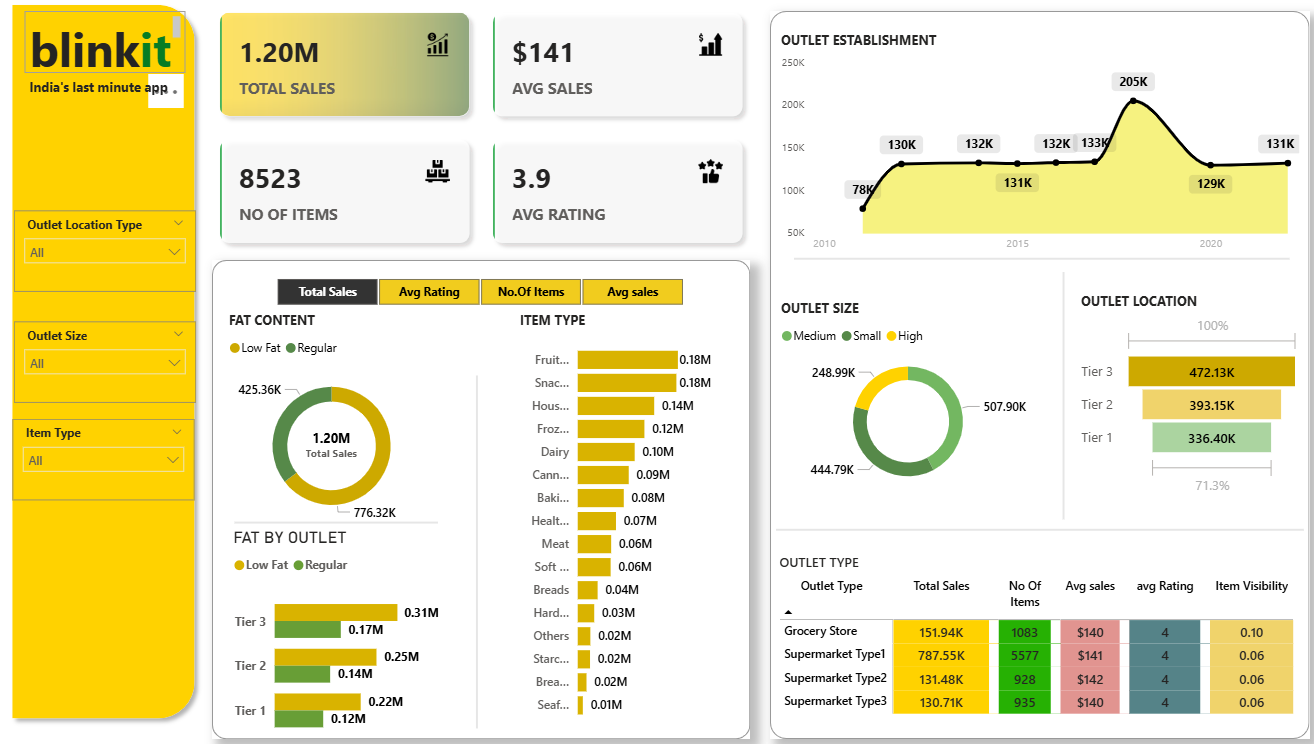

Layout of this report page (visuals, bound fields, positions):
{"tool":"powerbi","page":{"name":"Page 1","canvas":[1400,8070],"ordinal":0},"visuals":[{"type":"shape","box":[10,0,205,750],"z":0},{"type":"textbox","box":[31.7,15,165,63.3],"z":1000},{"type":"textbox","box":[31.7,78.3,165,31.7],"z":2000},{"type":"cardVisual","fields":{"Data":["BlinkIT Grocery Data.TOtal sales","BlinkIT Grocery Data.Avg sales","BlinkIT Grocery Data.No Of Items","BlinkIT Grocery Data.avg Rating","BlinkIT Grocery Data.avg Rating"]},"box":[215,0,570,270],"z":3000},{"type":"shape","box":[223.9,270.4,552.1,491.5],"z":4000},{"type":"donutChart","title":"FAT CONTENT","fields":{"Y":["BlinkIT Grocery Data.Total Sales"],"Category":["BlinkIT Grocery Data.Item Fat Content"]},"box":[236.7,323.3,220,230],"z":5000},{"type":"slicer","fields":{"Values":["Metrics.Metrics"]},"box":[266.7,283.3,465,40],"z":6000},{"type":"cardVisual","fields":{"Data":["BlinkIT Grocery Data.Total Sales"]},"box":[301.4,426,91.8,57.5],"z":7000},{"type":"clusteredBarChart","title":"FAT BY OUTLET","fields":{"Y":["BlinkIT Grocery Data.Total Sales"],"Category":["BlinkIT Grocery Data.Outlet Location Type"],"Series":["BlinkIT Grocery Data.Item Fat Content"]},"box":[242,544.9,220.3,230.4],"z":8000},{"type":"shape","box":[247.8,517.4,208.7,46.4],"z":9000},{"type":"shape","box":[456.3,388.7,78.9,362],"z":10000},{"type":"barChart","title":"ITEM TYPE","fields":{"Y":["BlinkIT Grocery Data.Total Sales"],"Category":["BlinkIT Grocery Data.Item Type"]},"box":[535.2,322.5,205.6,428.2],"z":11000},{"type":"shape","box":[796.7,15,553.3,746.7],"z":12000},{"type":"lineChart","title":" OUTLET ESTABLISHMENT","fields":{"Y":["BlinkIT Grocery Data.Total Sales"],"Category":["BlinkIT Grocery Data.Outlet Establishment Year"]},"box":[803.3,35,541.7,235],"z":13000},{"type":"shape","box":[821.7,246.7,508.3,46.7],"z":14000},{"type":"donutChart","title":"OUTLET SIZE","fields":{"Y":["BlinkIT Grocery Data.Total Sales"],"Category":["BlinkIT Grocery Data.Outlet Size"]},"box":[802.9,311.4,270,204.3],"z":15000},{"type":"shape","box":[1058.2,283.6,79.1,253.7],"z":16000},{"type":"funnel","title":"OUTLET LOCATION","fields":{"Y":["Sum(BlinkIT Grocery Data.Sales)"],"Category":["BlinkIT Grocery Data.Outlet Location Type"]},"box":[1110,302.9,234.3,212.9],"z":17000},{"type":"shape","box":[802.9,524.3,541.4,45.7],"z":18000},{"type":"pivotTable","title":"OUTLET TYPE","fields":{"Rows":["BlinkIT Grocery Data.Outlet Type"],"Values":["BlinkIT Grocery Data.Total Sales","BlinkIT Grocery Data.No Of Items","BlinkIT Grocery Data.Avg sales","BlinkIT Grocery Data.avg Rating","Avg(BlinkIT Grocery Data.Item Visibility)"]},"box":[801.4,570,544.3,180],"z":19000},{"type":"slicer","fields":{"Values":["BlinkIT Grocery Data.Outlet Location Type"]},"box":[21.7,220,186.7,83.3],"z":20000},{"type":"slicer","fields":{"Values":["BlinkIT Grocery Data.Outlet Size"]},"box":[21.7,333.3,186.7,83.3],"z":21000},{"type":"slicer","fields":{"Values":["BlinkIT Grocery Data.Item Type"]},"box":[20,433.3,186.7,83.3],"z":22000}]}

Visuals, with their boxes on the page's 1400x8070 design canvas (x1, y1, x2, y2). These are canvas units, not pixel positions in the 1314x744 screenshot, which may show the page scaled, cropped or inside an application window:
shape: x1=10 y1=0 x2=215 y2=750
textbox: x1=32 y1=15 x2=197 y2=78
textbox: x1=32 y1=78 x2=197 y2=110
cardVisual - BlinkIT Grocery Data.TOtal sales x BlinkIT Grocery Data.Avg sales: x1=215 y1=0 x2=785 y2=270
shape: x1=224 y1=270 x2=776 y2=762
"FAT CONTENT" donutChart: x1=237 y1=323 x2=457 y2=553
slicer - Metrics.Metrics: x1=267 y1=283 x2=732 y2=323
cardVisual - BlinkIT Grocery Data.Total Sales: x1=301 y1=426 x2=393 y2=484
"FAT BY OUTLET" clusteredBarChart: x1=242 y1=545 x2=462 y2=775
shape: x1=248 y1=517 x2=456 y2=564
shape: x1=456 y1=389 x2=535 y2=751
"ITEM TYPE" barChart: x1=535 y1=322 x2=741 y2=751
shape: x1=797 y1=15 x2=1350 y2=762
" OUTLET ESTABLISHMENT" lineChart: x1=803 y1=35 x2=1345 y2=270
shape: x1=822 y1=247 x2=1330 y2=293
"OUTLET SIZE" donutChart: x1=803 y1=311 x2=1073 y2=516
shape: x1=1058 y1=284 x2=1137 y2=537
"OUTLET LOCATION" funnel: x1=1110 y1=303 x2=1344 y2=516
shape: x1=803 y1=524 x2=1344 y2=570
"OUTLET TYPE" pivotTable: x1=801 y1=570 x2=1346 y2=750
slicer - BlinkIT Grocery Data.Outlet Location Type: x1=22 y1=220 x2=208 y2=303
slicer - BlinkIT Grocery Data.Outlet Size: x1=22 y1=333 x2=208 y2=417
slicer - BlinkIT Grocery Data.Item Type: x1=20 y1=433 x2=207 y2=517
